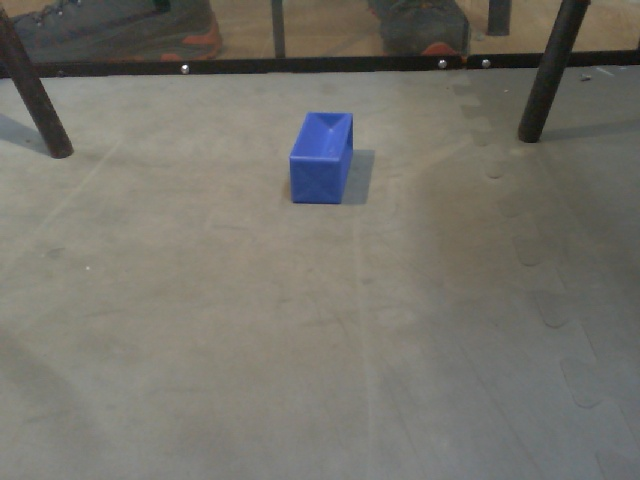BlueSample: (286, 108, 355, 209)
